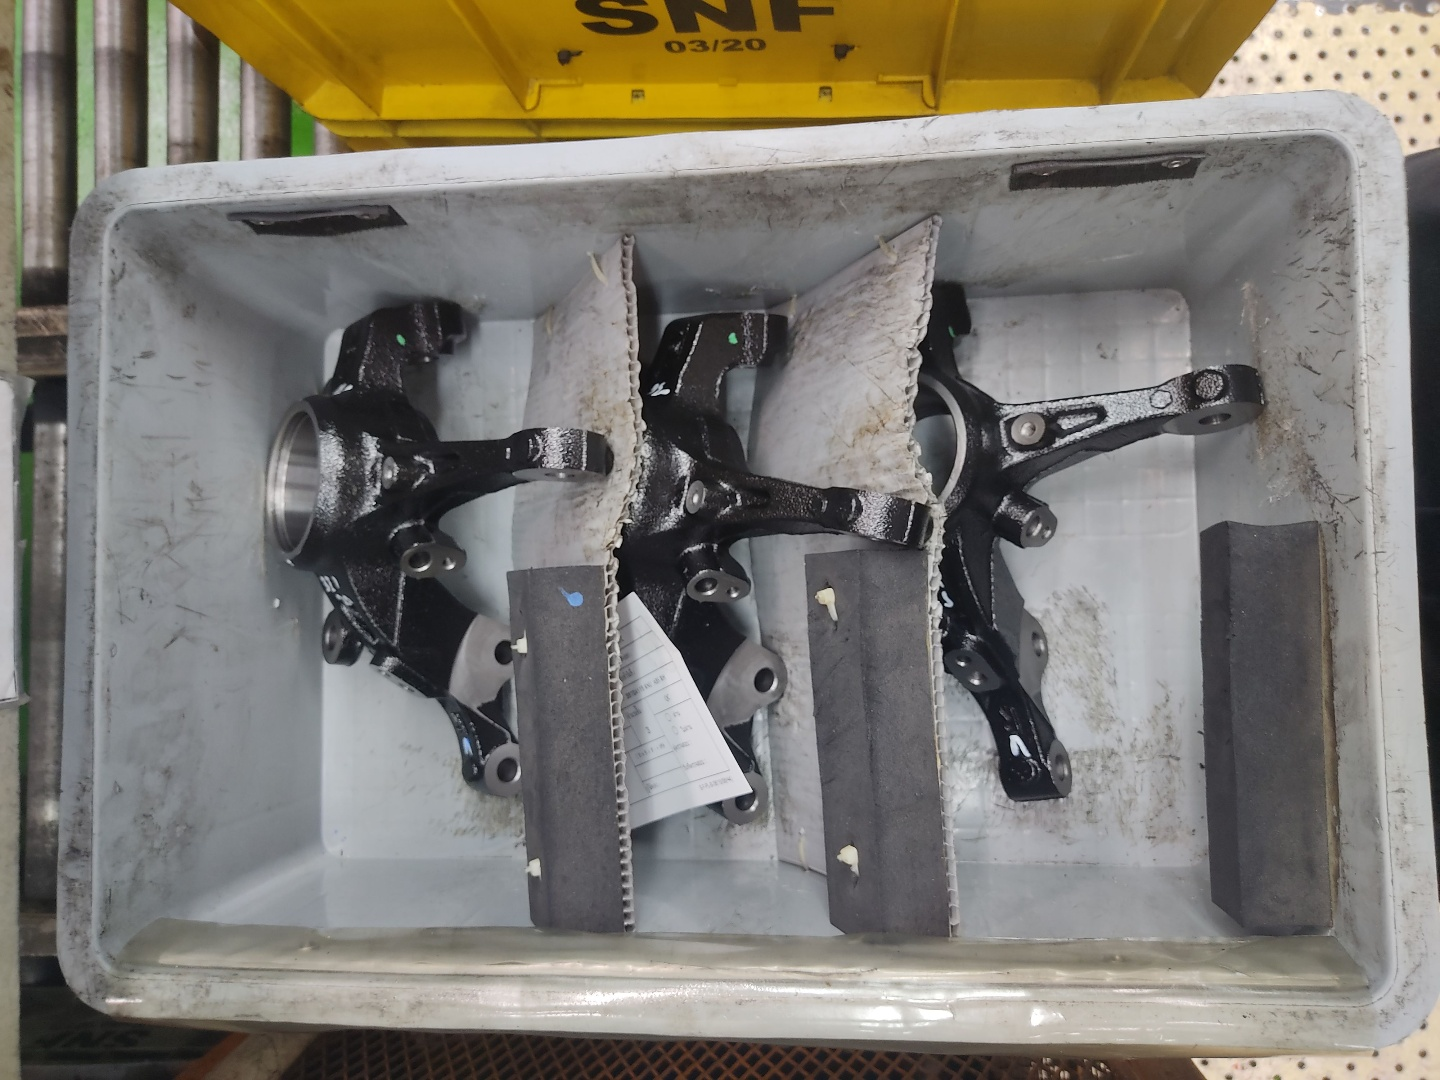abs-rh: (254, 282, 618, 810), (921, 265, 1267, 811), (624, 299, 927, 827)
